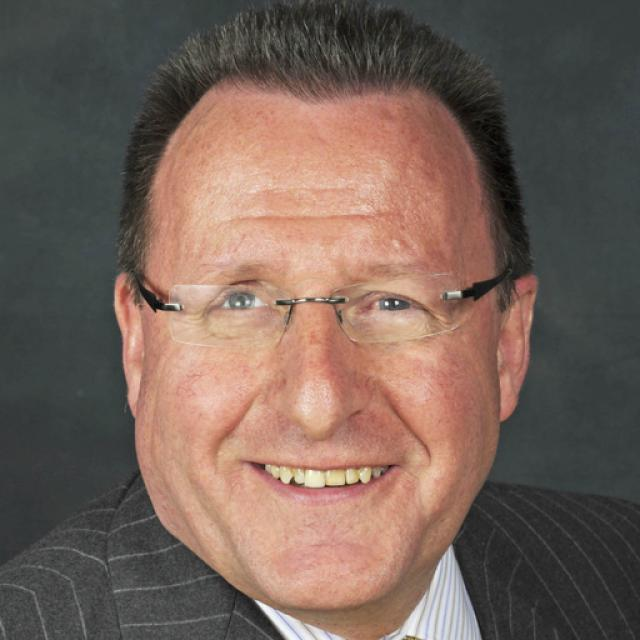Pigmentation: (270, 325, 371, 398)
